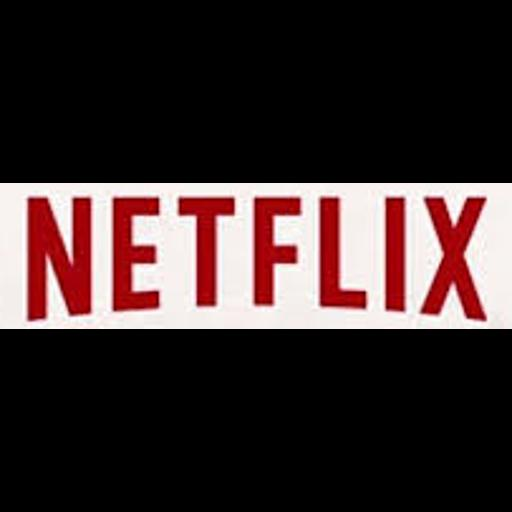Netflix: (0, 183, 512, 329)
